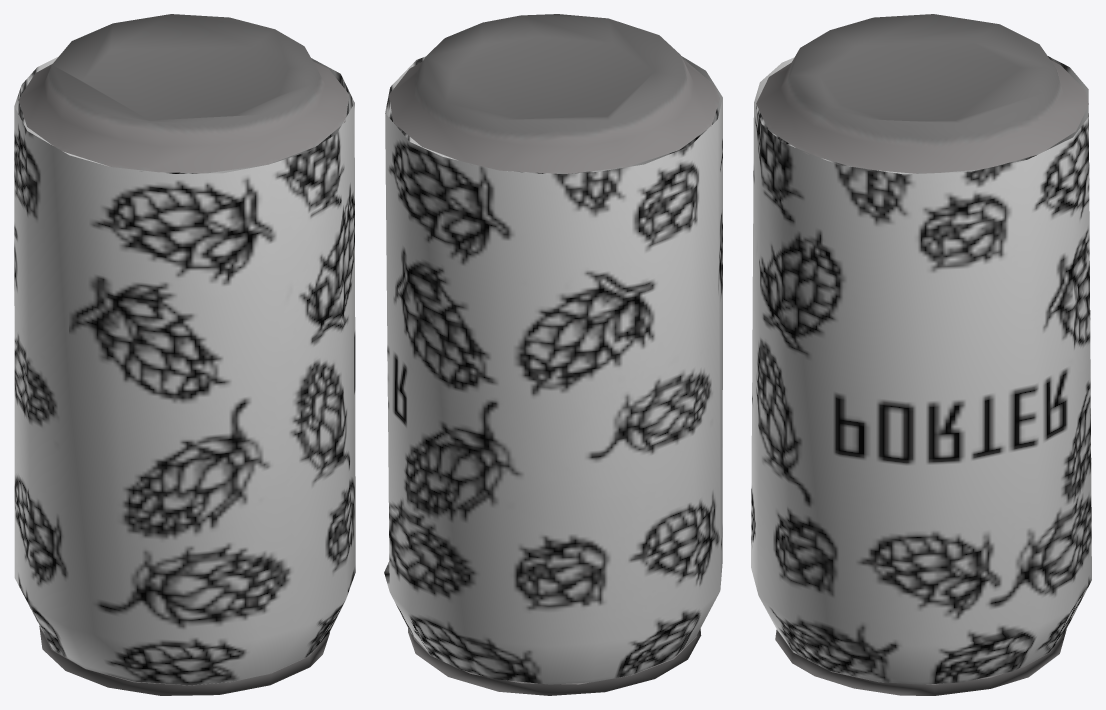
Rendered from BeerCanSmallHand.fbx.
The picture shows the model from 3 angles, left to right: view 1: azimuth 30°, elevation 25°; view 2: azimuth 150°, elevation 25°; view 3: azimuth 270°, elevation 25°; orthographic projection.
Parts seen in each view (by area): view 1: can.001; view 2: can.001; view 3: can.001.
Boxes of the visible parts, x1,y1,x2,y2 form: can.001: (14, 14, 355, 695); can.001: (384, 14, 722, 695); can.001: (751, 14, 1091, 695).
Bounding box in the file's own units: 0.0533 × 0.0977 × 0.0533.
